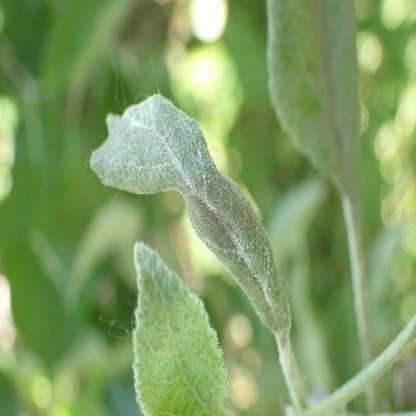powder: (90, 93, 292, 334), (133, 241, 228, 409)
